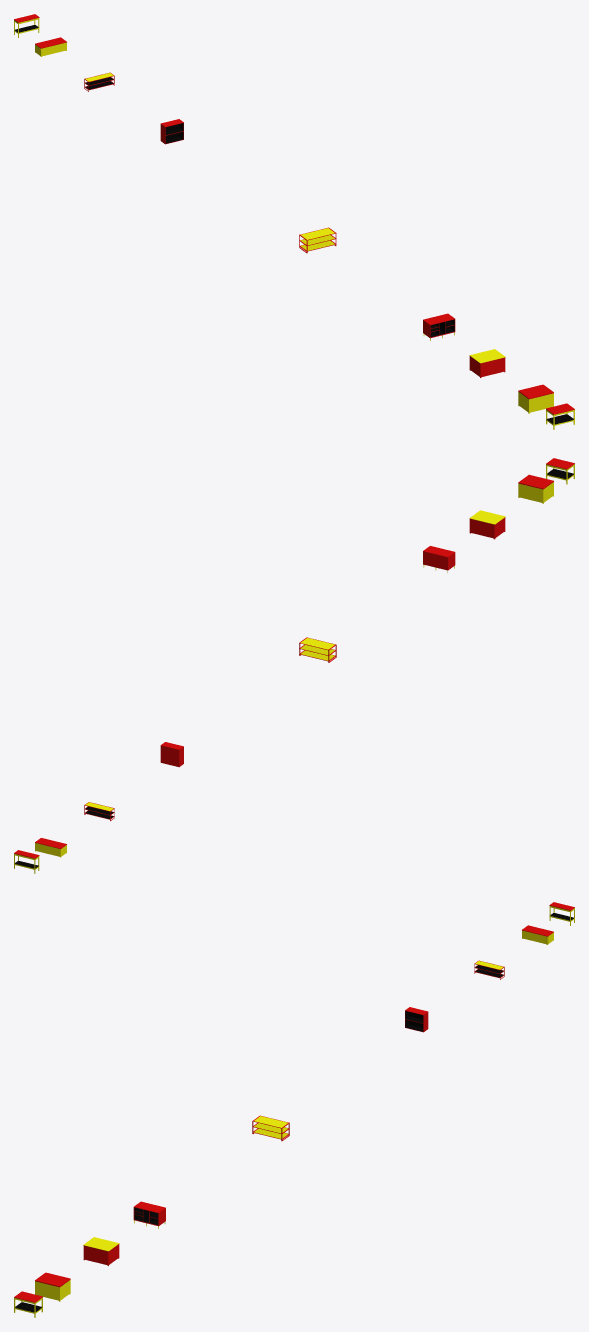
The model's file is tv_stands_grp.fbx.
3 views of the same model, one above another, from view 1: azimuth 30°, elevation 25°; view 2: azimuth 150°, elevation 25°; view 3: azimuth 330°, elevation 25° (orthographic).
Parts seen in each view (by area): view 1: tv_stand_204, tv_stand_202; view 2: tv_stand_204, tv_stand_202, tv_stand_206; view 3: tv_stand_204, tv_stand_202.
Boxes of the visible parts, left/top/right/bottom form: tv_stand_204: left=469, top=349, right=505, bottom=377; tv_stand_202: left=518, top=384, right=553, bottom=413; tv_stand_204: left=469, top=510, right=505, bottom=539; tv_stand_202: left=518, top=474, right=553, bottom=503; tv_stand_206: left=423, top=546, right=455, bottom=572; tv_stand_204: left=83, top=1237, right=119, bottom=1265; tv_stand_202: left=35, top=1272, right=70, bottom=1301.
Size of the model in its own units: 142 by 79.48 by 4450.
